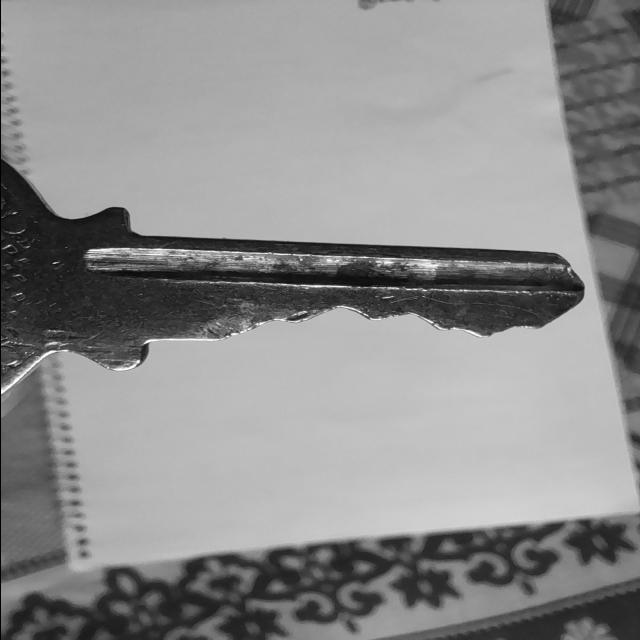key: (0, 161, 583, 412)
